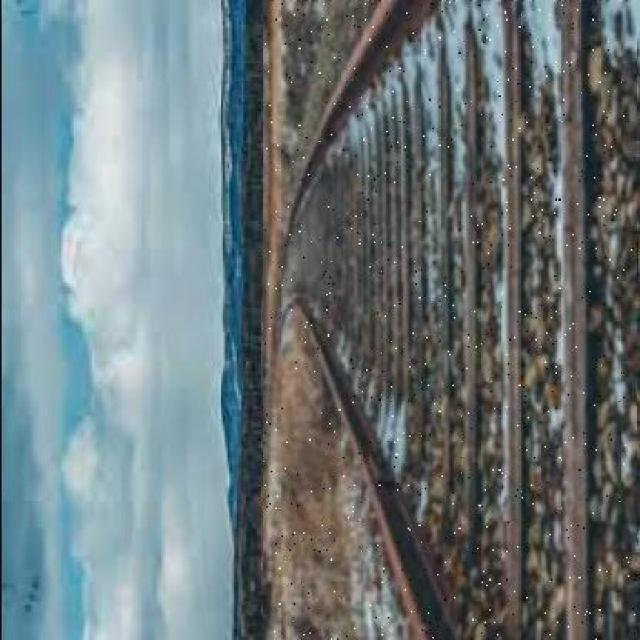rail: (263, 3, 635, 640)
